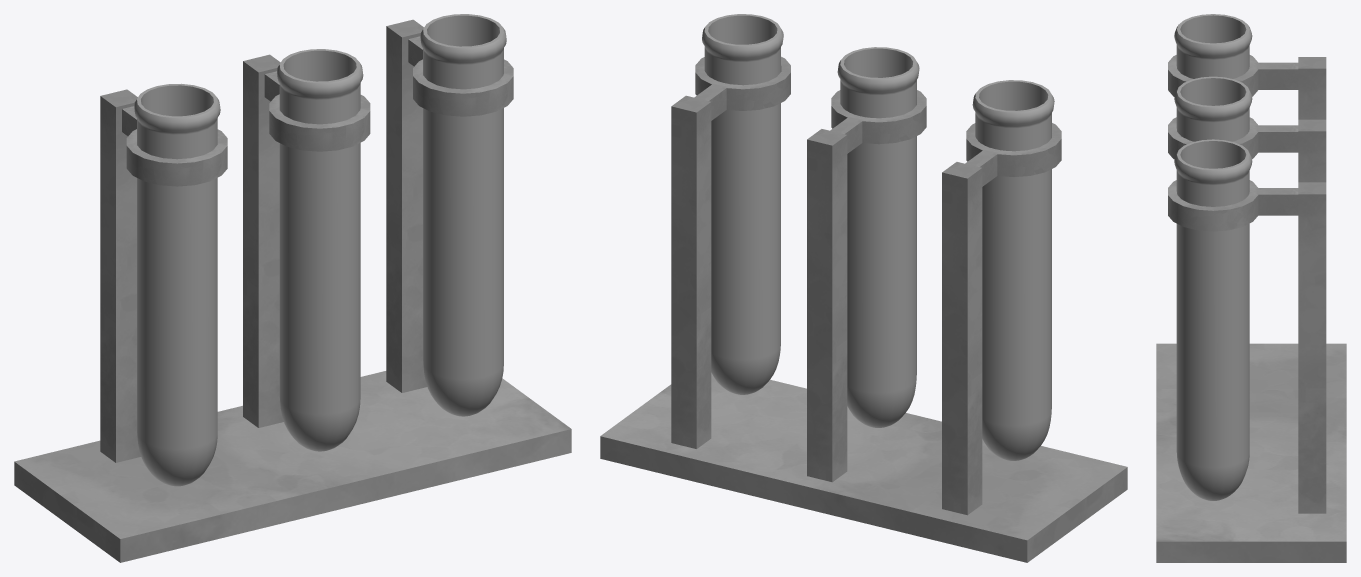
The model's file is sciTubes.fbx.
3 renders of one model, left to right at view 1: azimuth 30°, elevation 25°; view 2: azimuth 150°, elevation 25°; view 3: azimuth 270°, elevation 25°, orthographic. The views are drawn at different scales.
Parts seen in each view (by area): view 1: pCube90, pSphere14, pSphere10, pSphere15, pCube154, pCube91, pCube153, pPipe5, pPipe4, pPipe6; view 2: pCube90, pSphere10, pSphere15, pSphere14, pCube91, pCube153, pCube154, pPipe6, pPipe4, pPipe5; view 3: pCube90, pSphere15, pCube154, pSphere14, pSphere10, pPipe6, pPipe5, pPipe4, pCube153, pCube91.
Boxes of the visible parts, x1=… form: pCube90: x1=14, y1=371, x2=571, y2=562; pSphere14: x1=277, y1=49, x2=363, y2=451; pSphere10: x1=134, y1=83, x2=220, y2=486; pSphere15: x1=420, y1=14, x2=506, y2=416; pCube154: x1=386, y1=19, x2=427, y2=392; pCube91: x1=100, y1=89, x2=141, y2=462; pCube153: x1=243, y1=54, x2=283, y2=427; pPipe5: x1=264, y1=71, x2=370, y2=151; pPipe4: x1=122, y1=106, x2=227, y2=186; pPipe6: x1=408, y1=36, x2=513, y2=116; pCube90: x1=600, y1=373, x2=1127, y2=562; pSphere10: x1=972, y1=80, x2=1054, y2=460; pSphere15: x1=702, y1=14, x2=783, y2=394; pSphere14: x1=837, y1=47, x2=919, y2=427; pCube91: x1=942, y1=162, x2=982, y2=515; pCube153: x1=807, y1=129, x2=847, y2=482; pCube154: x1=671, y1=95, x2=711, y2=448; pPipe6: x1=694, y1=56, x2=790, y2=120; pPipe4: x1=965, y1=123, x2=1061, y2=186; pPipe5: x1=830, y1=90, x2=926, y2=153; pCube90: x1=1156, y1=343, x2=1346, y2=562; pSphere15: x1=1174, y1=139, x2=1252, y2=500; pCube154: x1=1298, y1=182, x2=1326, y2=513; pSphere14: x1=1174, y1=76, x2=1252, y2=141; pSphere10: x1=1174, y1=14, x2=1252, y2=78; pPipe6: x1=1168, y1=180, x2=1298, y2=231; pPipe5: x1=1168, y1=117, x2=1298, y2=159; pPipe4: x1=1168, y1=55, x2=1298, y2=96; pCube153: x1=1298, y1=119, x2=1326, y2=182; pCube91: x1=1298, y1=57, x2=1326, y2=119.
Size of the model in its own units: 20.12 by 17.77 by 8.19.
2 materials, 1 textured.
